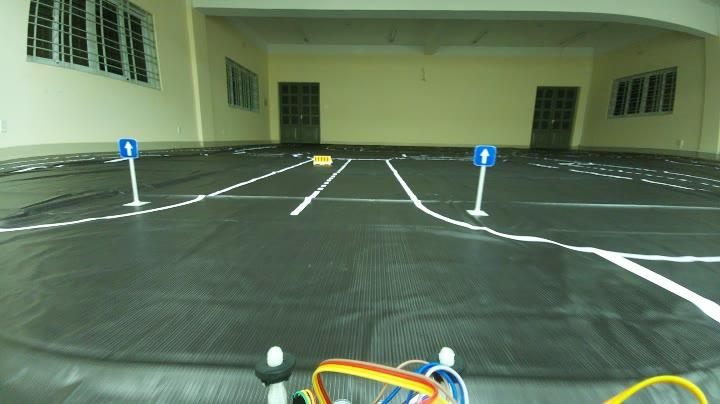onewayroad: (468, 139, 500, 176), (112, 136, 138, 160)
roadblock: (314, 158, 334, 168)
